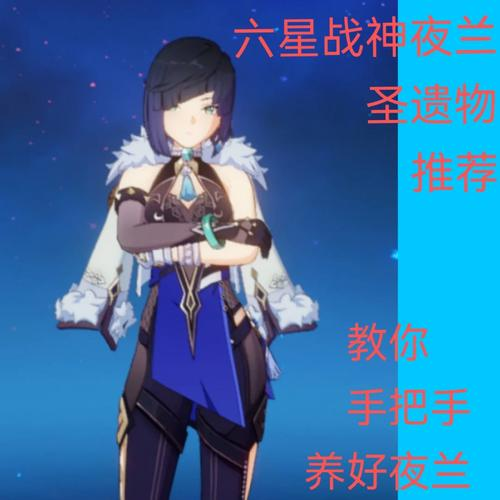夜兰: (110, 35, 275, 500)
